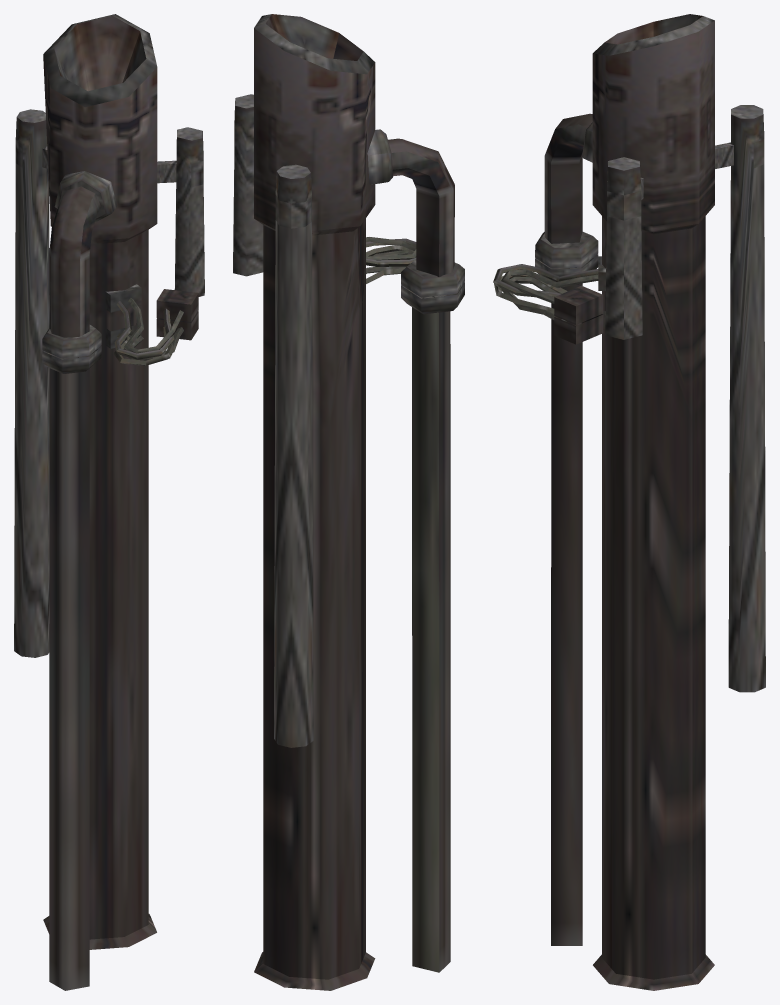
File: SM_EN_1002_guandao05.FBX
The picture shows the model from 3 angles, left to right: view 1: azimuth 30°, elevation 25°; view 2: azimuth 150°, elevation 25°; view 3: azimuth 270°, elevation 25°; orthographic projection. The views are drawn at different scales.
Parts seen in each view (by area): view 1: SM_EN_1002_guandao05; view 2: SM_EN_1002_guandao05; view 3: SM_EN_1002_guandao05.
Boxes of the visible parts, left/top/right/bottom form: SM_EN_1002_guandao05: left=14, top=14, right=204, bottom=990; SM_EN_1002_guandao05: left=233, top=14, right=464, bottom=990; SM_EN_1002_guandao05: left=493, top=14, right=765, bottom=990.
Bounding box in the file's own units: 58.51 × 270 × 69.03.
